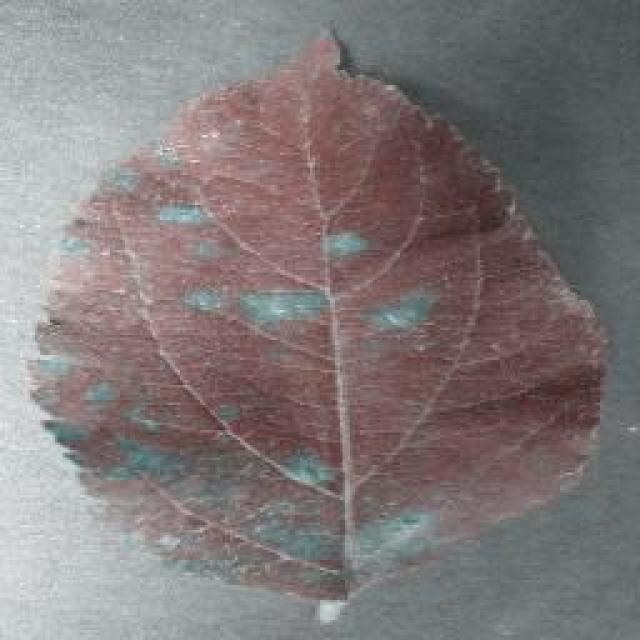apple healthy: (22, 23, 610, 605)
